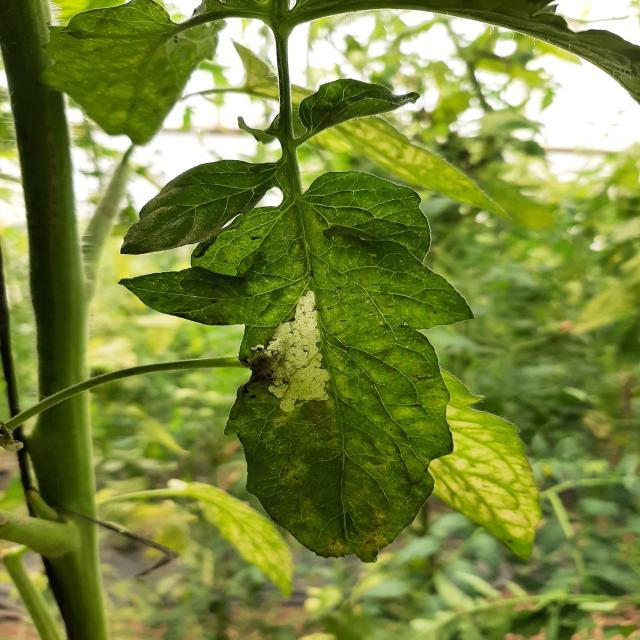Tuta absoluta: (253, 290, 334, 415)
